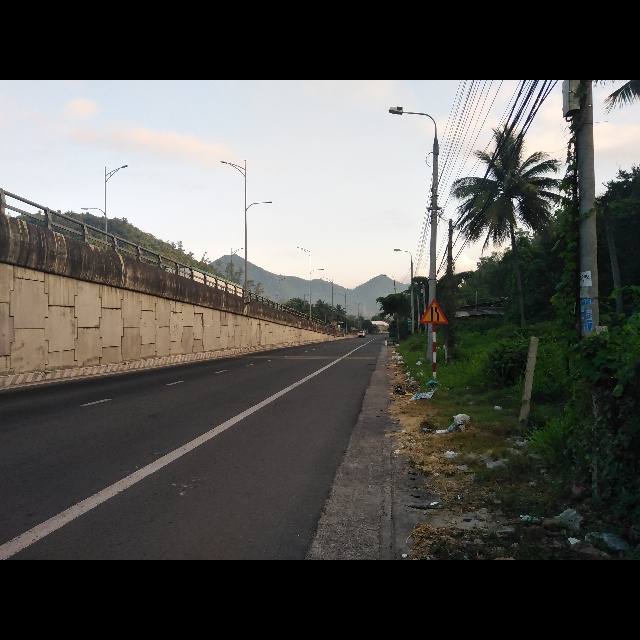Đường bị hẹp bên phải: (419, 298, 449, 325)
